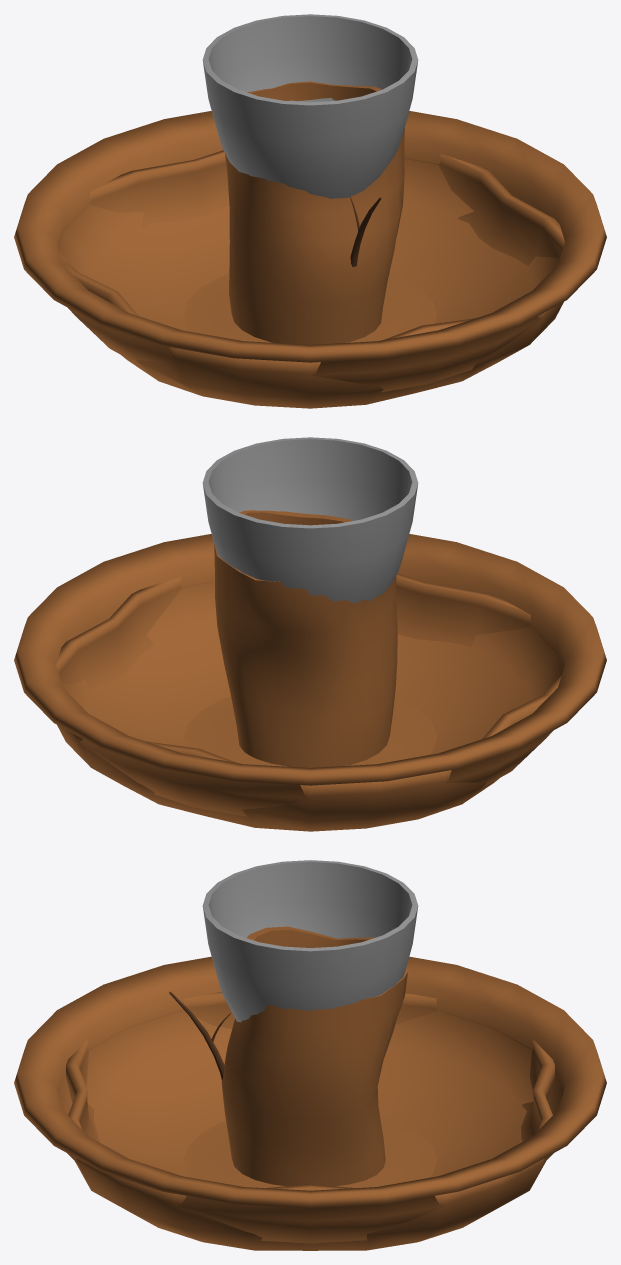
The model's file is PlatesCups.fbx.
3 views of the same model, one above another, from view 1: azimuth 30°, elevation 25°; view 2: azimuth 150°, elevation 25°; view 3: azimuth 270°, elevation 25° (orthographic).
Parts seen in each view (by area): view 1: Plates2, Plates1, Cup2, Cup1; view 2: Plates2, Cup1, Plates1, Cup2; view 3: Plates2, Cup1, Cup2, Plates1.
Part boxes in pixels (x1,y1,x2,y2): Plates2: (14, 111, 606, 392); Plates1: (57, 150, 564, 408); Cup2: (202, 14, 418, 198); Cup1: (225, 81, 404, 344); Plates2: (14, 534, 606, 816); Cup1: (214, 510, 397, 767); Plates1: (56, 573, 563, 831); Cup2: (202, 437, 418, 603); Plates2: (14, 956, 606, 1243); Cup1: (169, 926, 407, 1186); Cup2: (202, 860, 418, 1022); Plates1: (65, 992, 555, 1250).
Size of the model in its own units: 0.2821 by 0.1437 by 0.2821.
